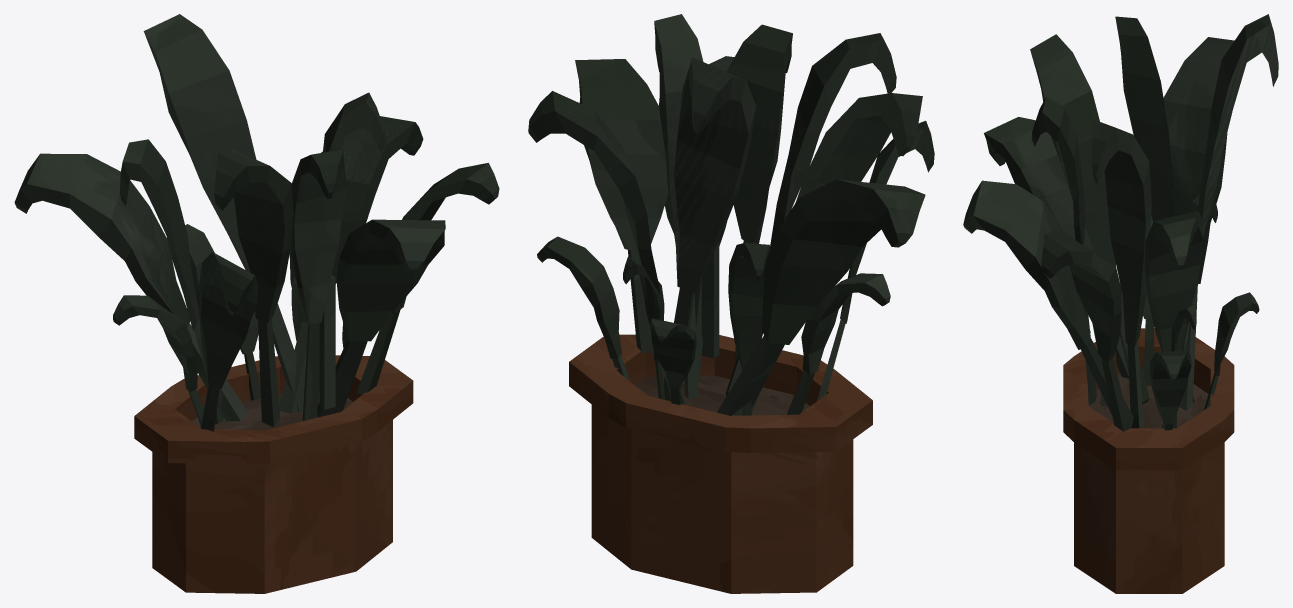
Rendered from M-Plant2Wide.fbx.
3 views of the same model, side by side, from view 1: azimuth 30°, elevation 25°; view 2: azimuth 150°, elevation 25°; view 3: azimuth 270°, elevation 25° (orthographic). The views are drawn at different scales.
Visible parts, largest first — view 1: Cube.001, Cube; view 2: Cube.001, Cube; view 3: Cube.001, Cube.
Part boxes in pixels (x1=…): Cube.001: x1=14, y1=14, x2=499, y2=431; Cube: x1=134, y1=355, x2=413, y2=593; Cube.001: x1=528, y1=14, x2=934, y2=415; Cube: x1=569, y1=334, x2=872, y2=593; Cube.001: x1=963, y1=14, x2=1278, y2=431; Cube: x1=1063, y1=328, x2=1234, y2=593.
Size of the model in its own units: 30.06 by 20.91 by 36.81.
2 materials, 2 textured.
